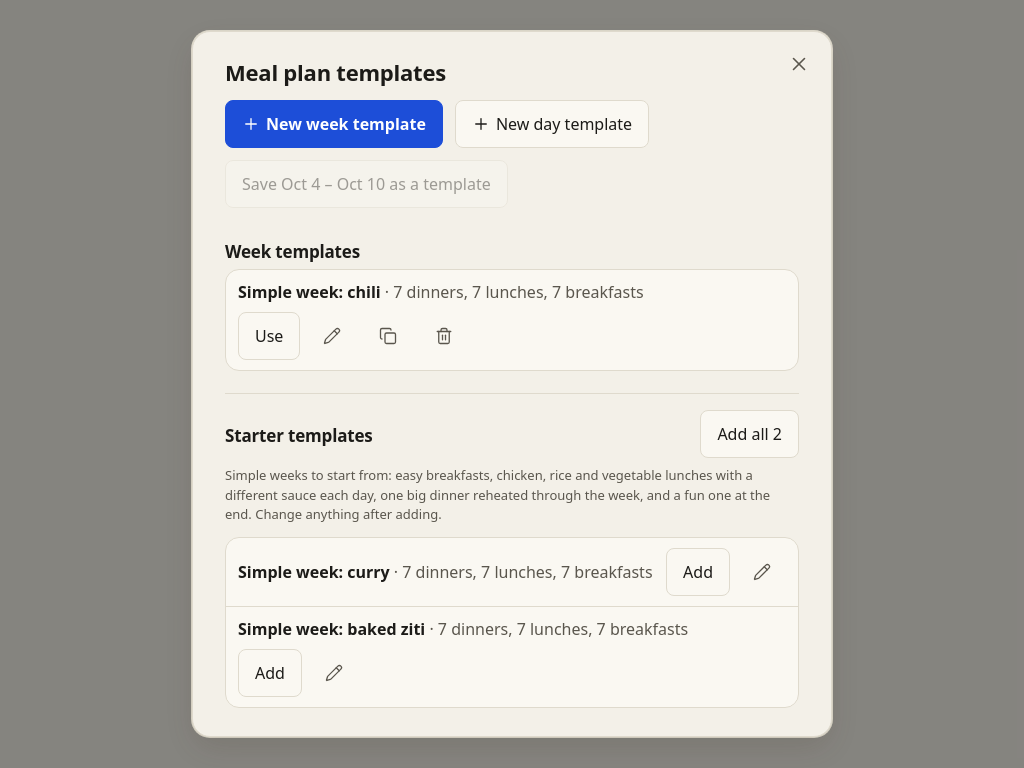
it: starter templates › offers the starters not yet added, one at a time or all at once, for the usual number of people
Check: the element "Starter templates" does not show "Simple week: chili", box [225, 393, 799, 708]
What coordinates should you click on to do the following:
click the button "Add all 2"
I would click on:
 (750, 434)
Its box is [700, 410, 799, 458].
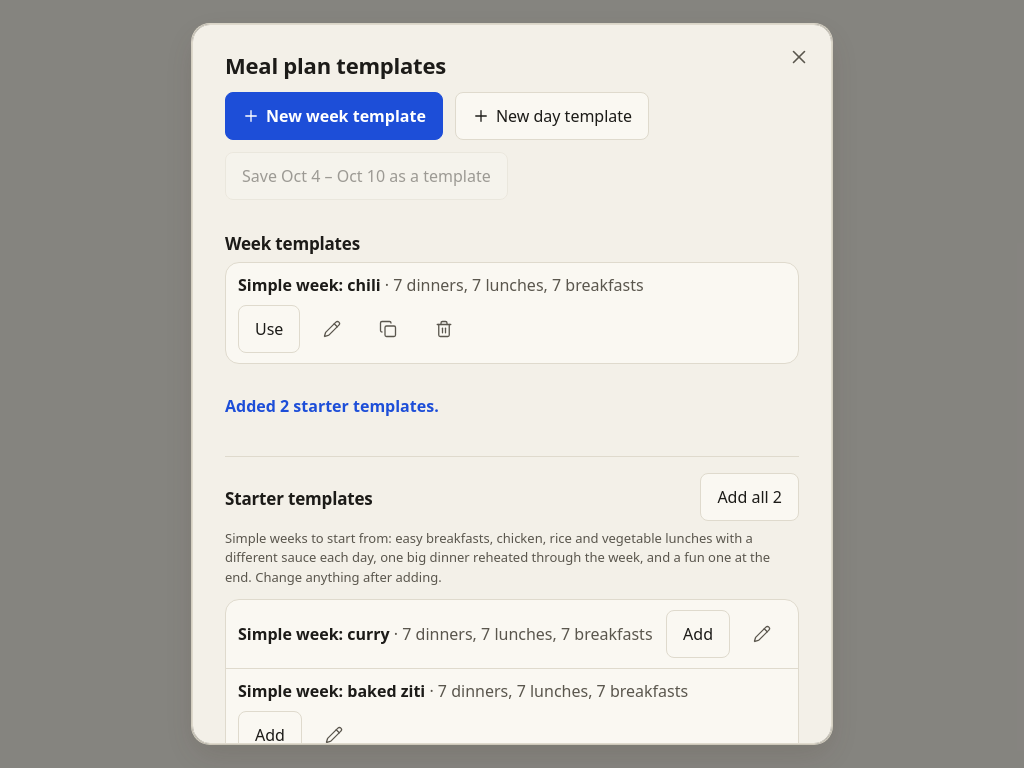
Check: the message reads "Added 2 starter templates.", box [225, 395, 439, 417]
